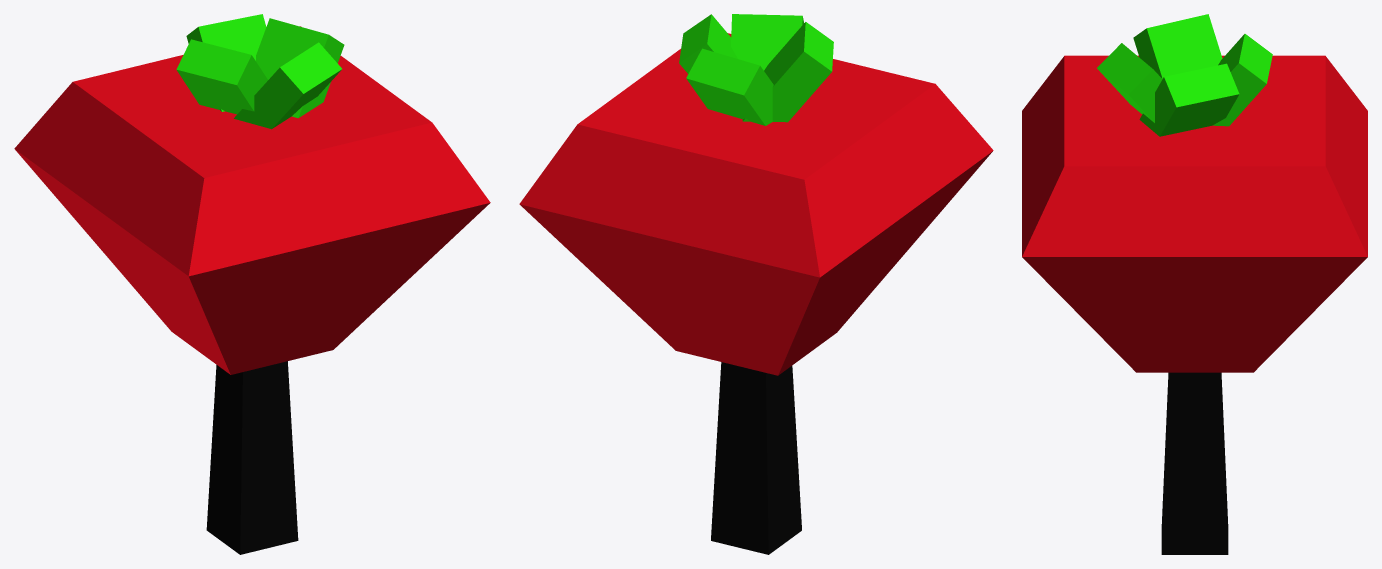
The model's file is клубничкен.fbx.
The picture shows the model from 3 angles, left to right: view 1: azimuth 30°, elevation 25°; view 2: azimuth 150°, elevation 25°; view 3: azimuth 270°, elevation 25°; orthographic projection.
Parts seen in each view (by area): view 1: Cube.001, Cube, Cube.002, Cube.003, Cube.004, Cube.005; view 2: Cube.001, Cube, Cube.005, Cube.002, Cube.003, Cube.004; view 3: Cube.001, Cube, Cube.004, Cube.002, Cube.003, Cube.005.
Part boxes in pixels (x1,y1,x2,y2): Cube.001: (14, 26, 490, 374); Cube: (206, 361, 298, 554); Cube.002: (176, 39, 267, 114); Cube.003: (234, 42, 341, 129); Cube.004: (256, 18, 344, 118); Cube.005: (186, 14, 266, 111); Cube.001: (519, 33, 993, 375); Cube: (711, 362, 801, 554); Cube.005: (686, 48, 773, 125); Cube.002: (742, 22, 833, 122); Cube.003: (731, 14, 803, 70); Cube.004: (679, 14, 737, 73); Cube.001: (1022, 55, 1367, 372); Cube: (1161, 372, 1228, 554); Cube.004: (1139, 63, 1239, 136); Cube.002: (1133, 14, 1222, 78); Cube.003: (1097, 43, 1162, 122); Cube.005: (1213, 34, 1272, 126).
Size of the model in its own units: 188 by 301 by 188.
